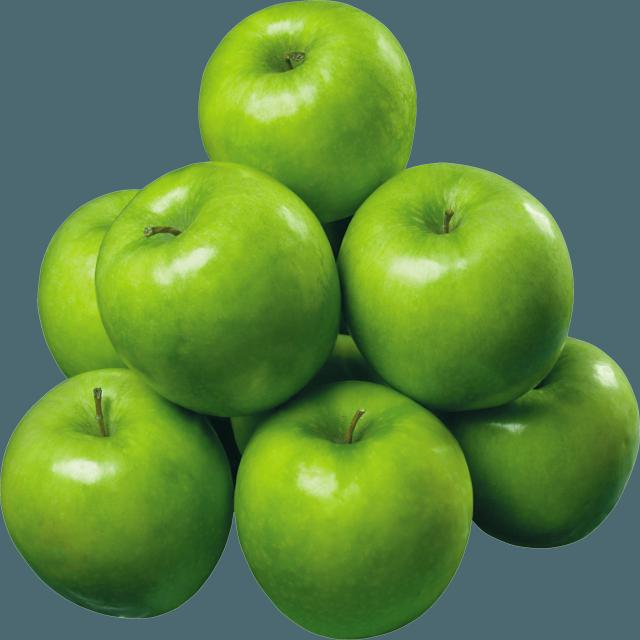Apple: (0, 362, 233, 639), (96, 154, 342, 414), (242, 379, 472, 637), (341, 168, 578, 403), (201, 0, 421, 218), (466, 341, 638, 548), (36, 189, 132, 370)
